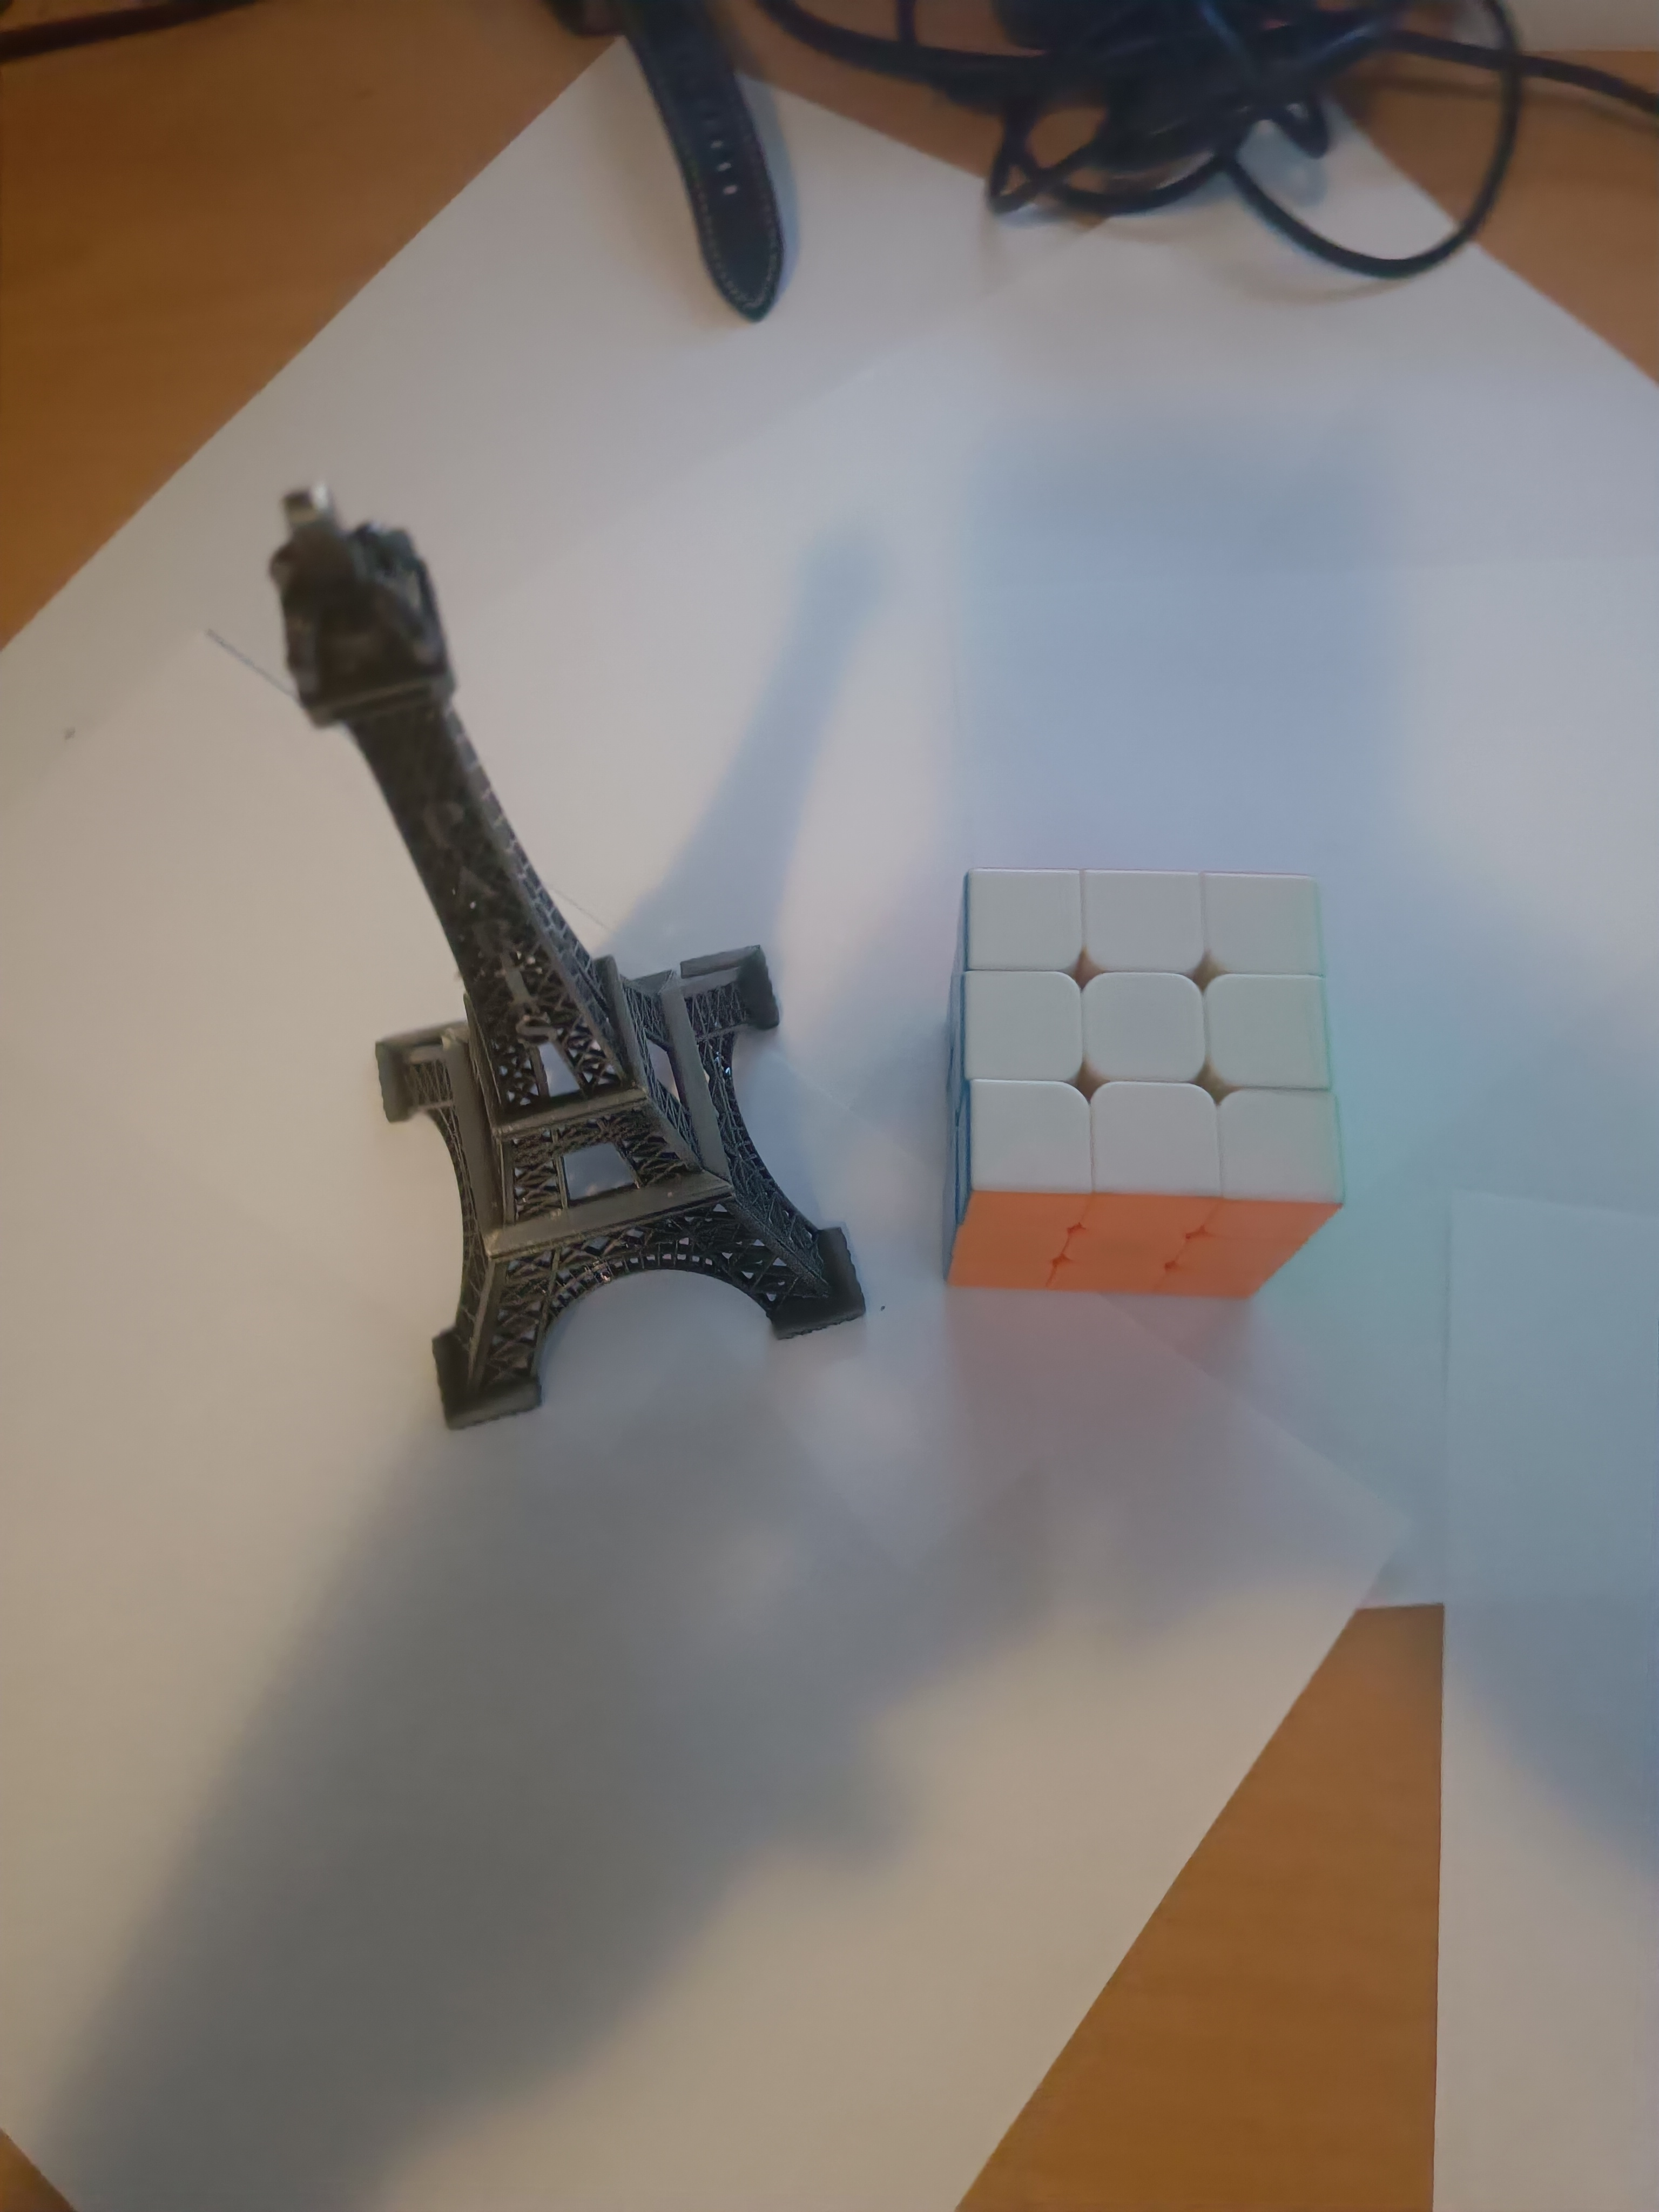Eiffel Tower: (244, 458, 875, 1442)
Rubiks Cube: (911, 853, 1368, 1327)
